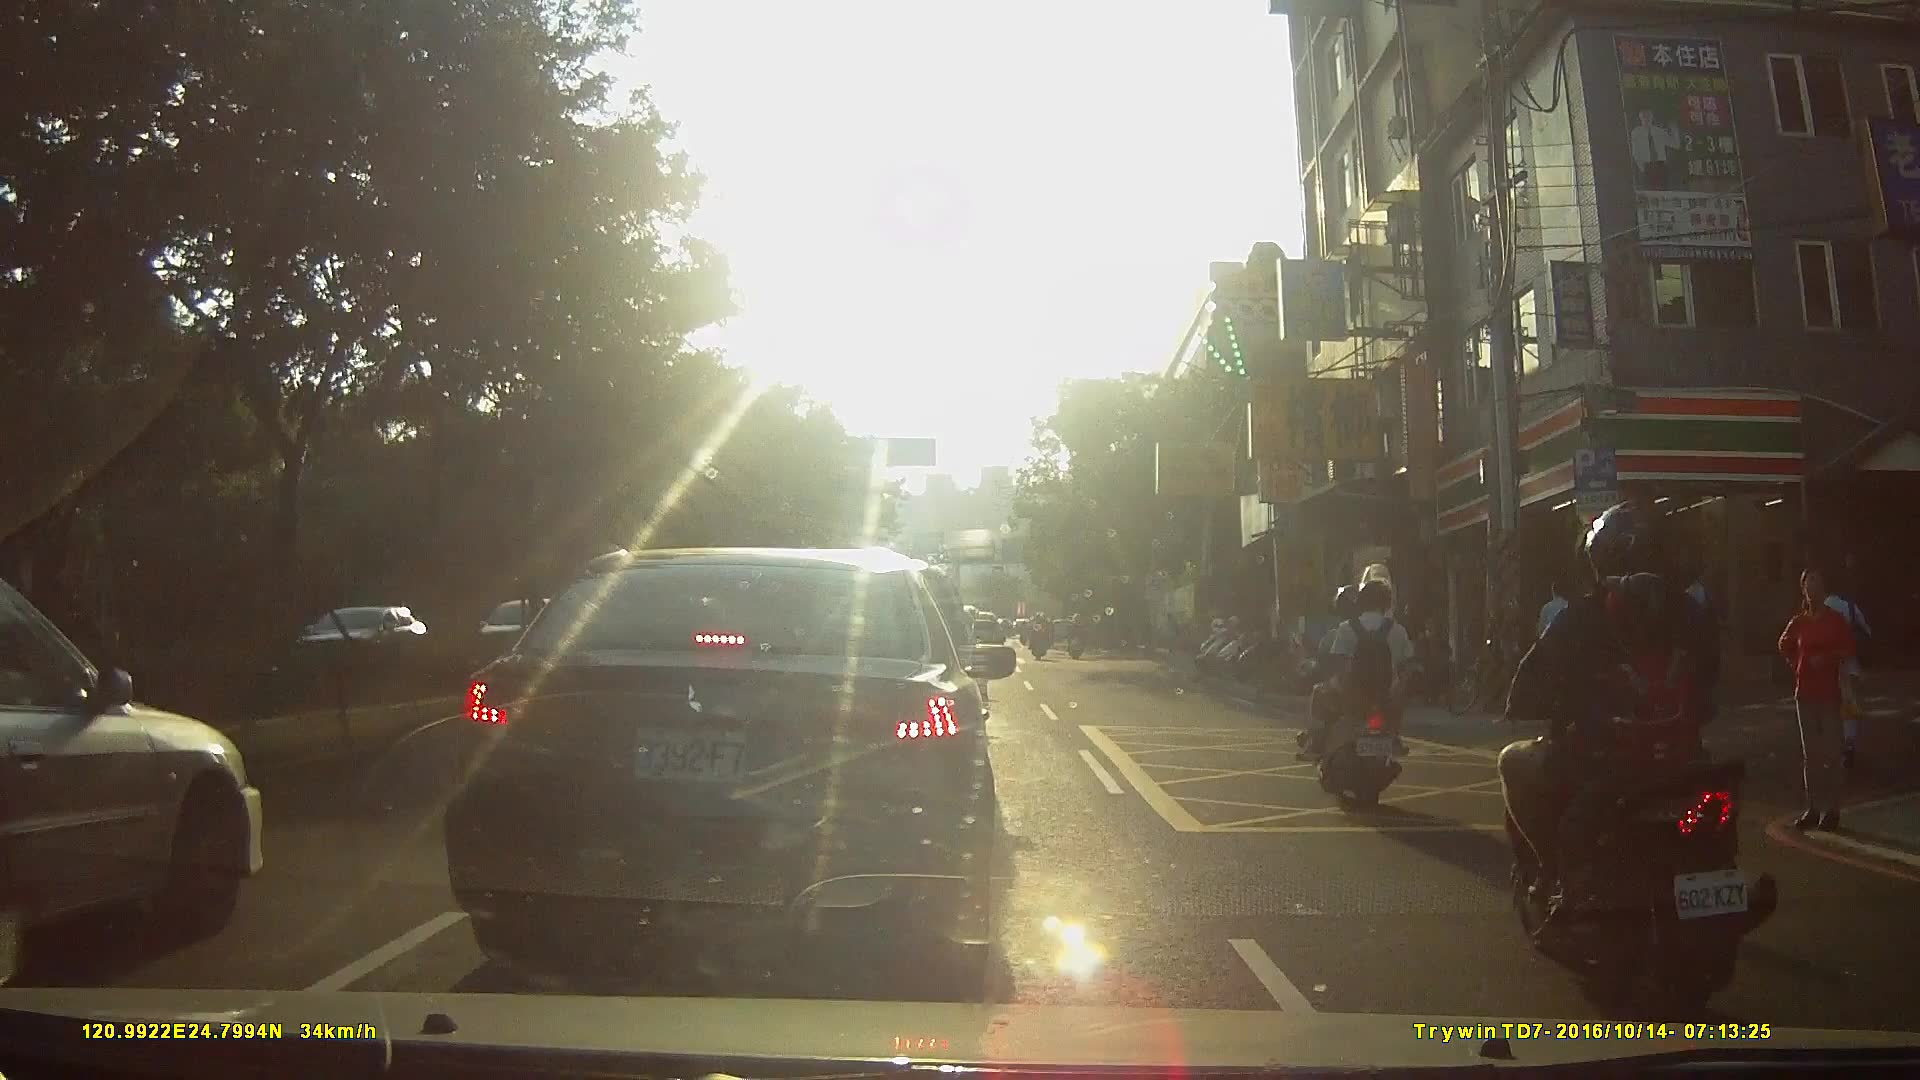pedestrian: (1779, 567, 1857, 833), (1537, 579, 1591, 715), (1629, 566, 1672, 692), (1680, 565, 1723, 684), (1622, 568, 1655, 700)
rider: (1498, 500, 1792, 1023), (1296, 565, 1420, 804), (1030, 609, 1051, 663), (1065, 614, 1087, 663)
vehicle: (449, 537, 1041, 974), (1, 570, 291, 968)
